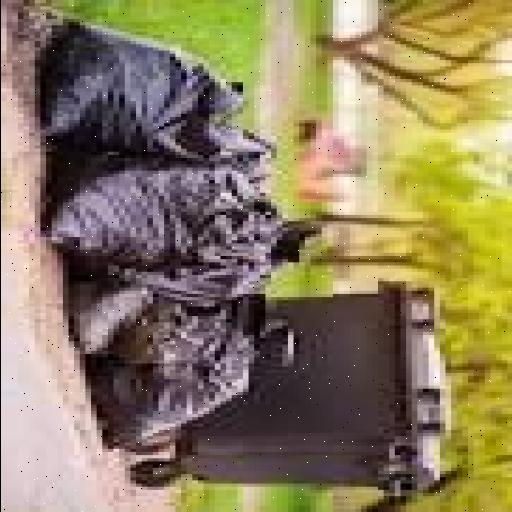poubelle_pleine: (82, 270, 440, 512)
